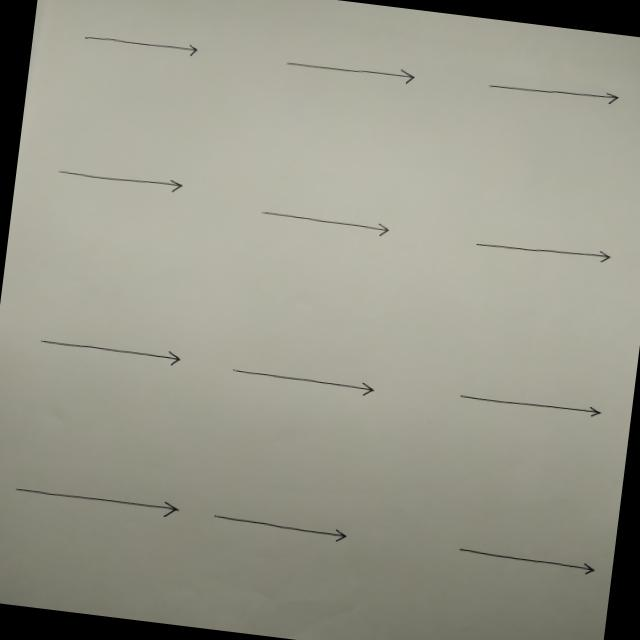arrow_line_right: (2, 467, 192, 529), (238, 188, 412, 252), (266, 44, 446, 100), (220, 349, 388, 408), (467, 66, 638, 118), (24, 326, 192, 378), (200, 501, 373, 551), (442, 375, 604, 427), (442, 534, 604, 585), (454, 224, 616, 272), (70, 22, 228, 70), (41, 154, 194, 202)
